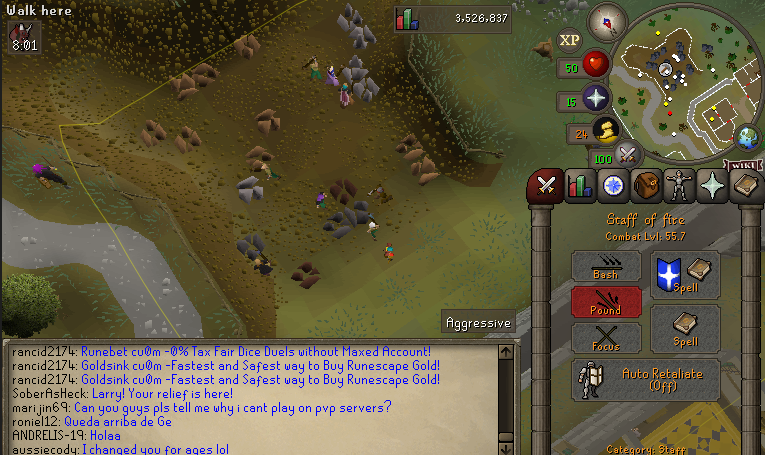depleted: (320, 210, 353, 243), (234, 231, 266, 262), (347, 199, 375, 229)
iron: (289, 260, 323, 292), (327, 176, 359, 208)
